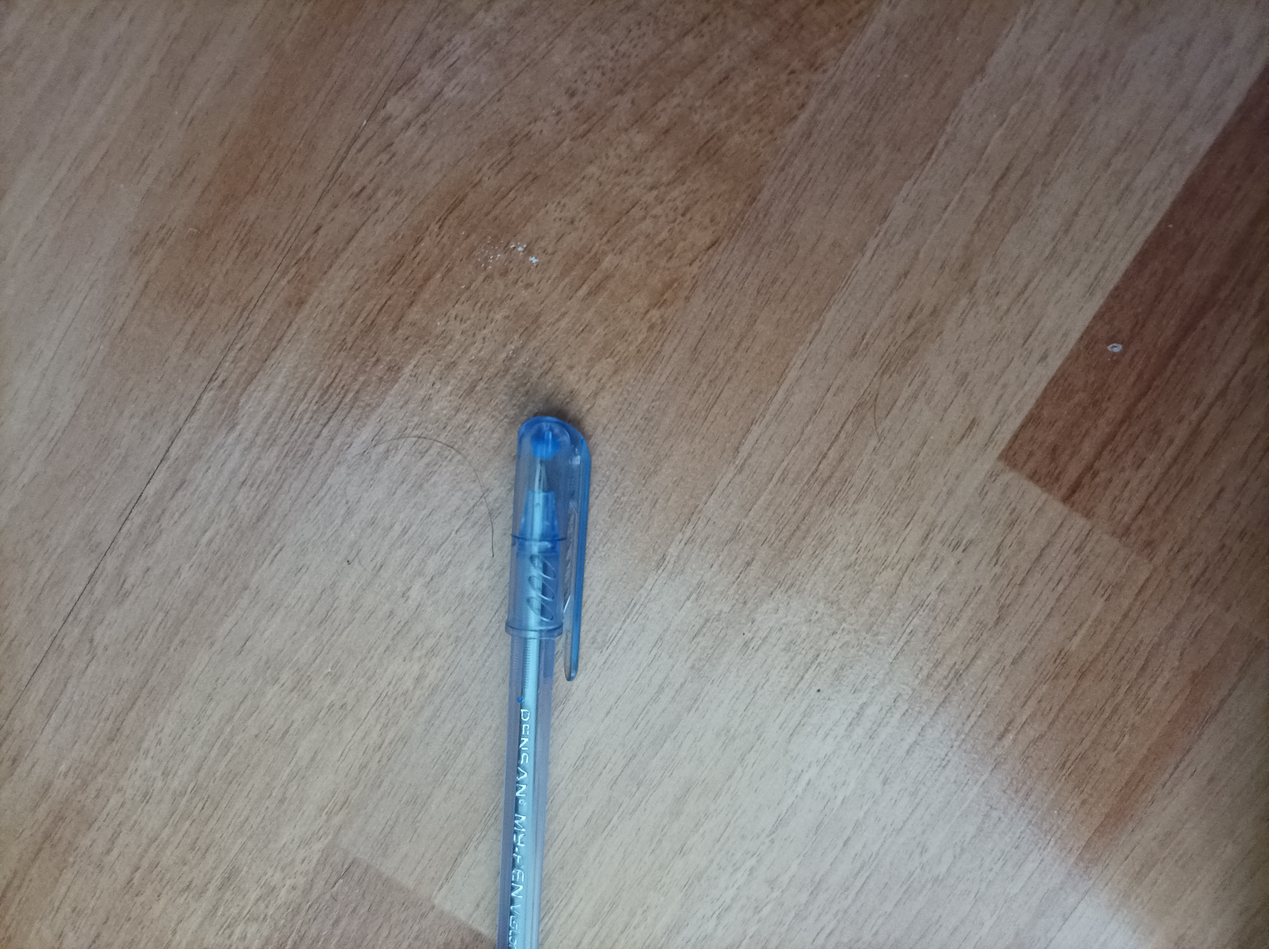plastic: (502, 409, 591, 949)
